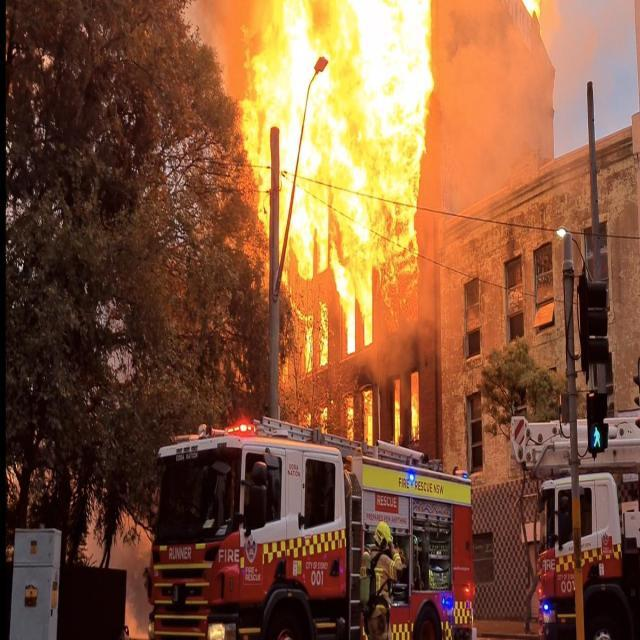Fire: (226, 0, 446, 359)
